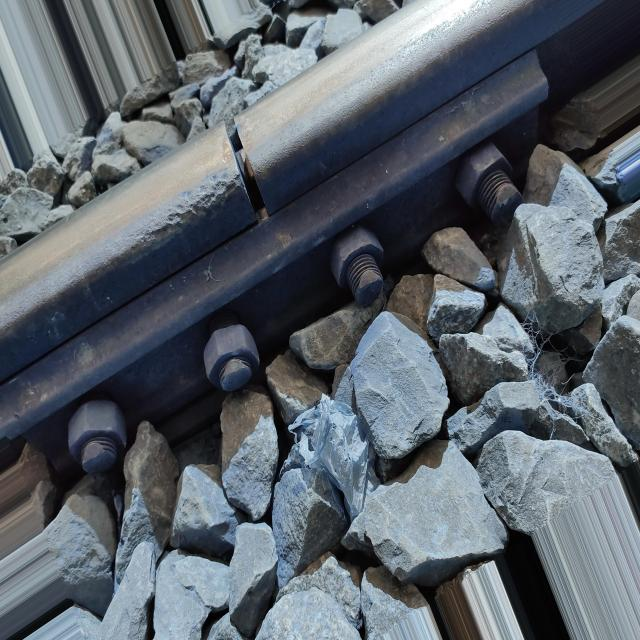Good Joint: (1, 46, 552, 482)
